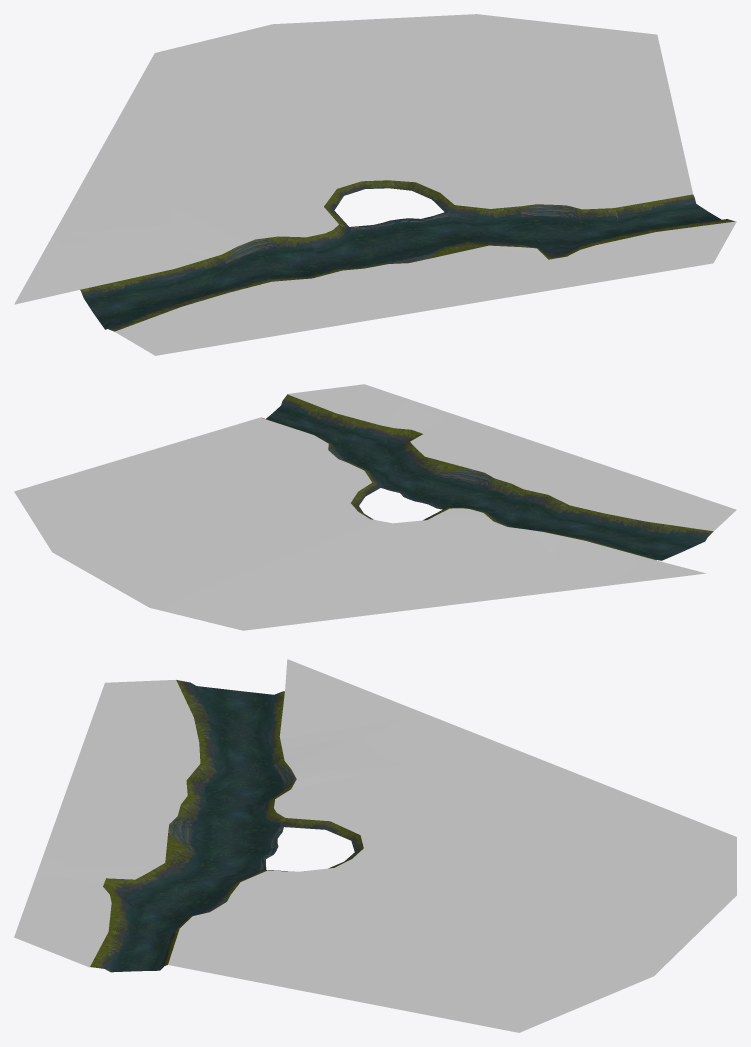
File: fb0_daditu.FBX
3 renders of one model, top to bottom at view 1: azimuth 30°, elevation 25°; view 2: azimuth 150°, elevation 25°; view 3: azimuth 270°, elevation 25°, orthographic. The views are drawn at different scales.
Visible parts, largest first — view 1: fb0_daditu_01, fb0_daditu_02; view 2: fb0_daditu_01, fb0_daditu_02; view 3: fb0_daditu_01, fb0_daditu_02.
Boxes of the visible parts, x1,y1,x2,y2 form: fb0_daditu_01: [14, 14, 736, 355]; fb0_daditu_02: [80, 180, 735, 331]; fb0_daditu_01: [14, 384, 736, 630]; fb0_daditu_02: [261, 394, 713, 560]; fb0_daditu_01: [14, 659, 736, 1032]; fb0_daditu_02: [90, 680, 363, 972].
Size of the model in its own units: 21992 by 172 by 17882.
